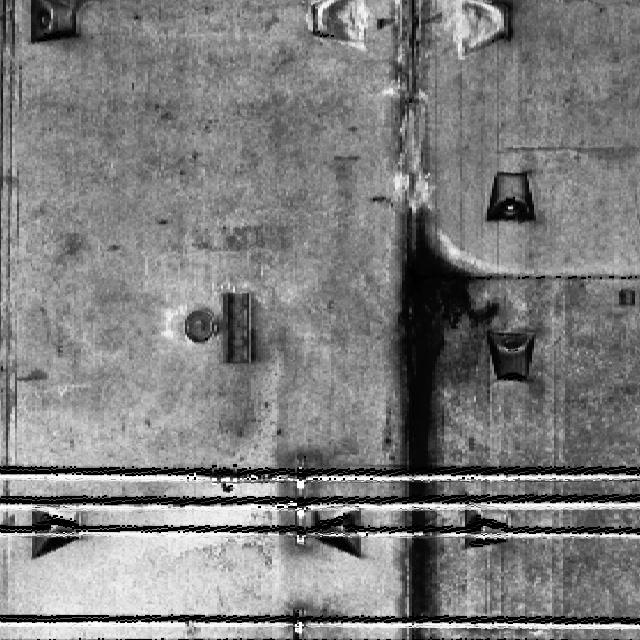leakage: (382, 139, 496, 636)
